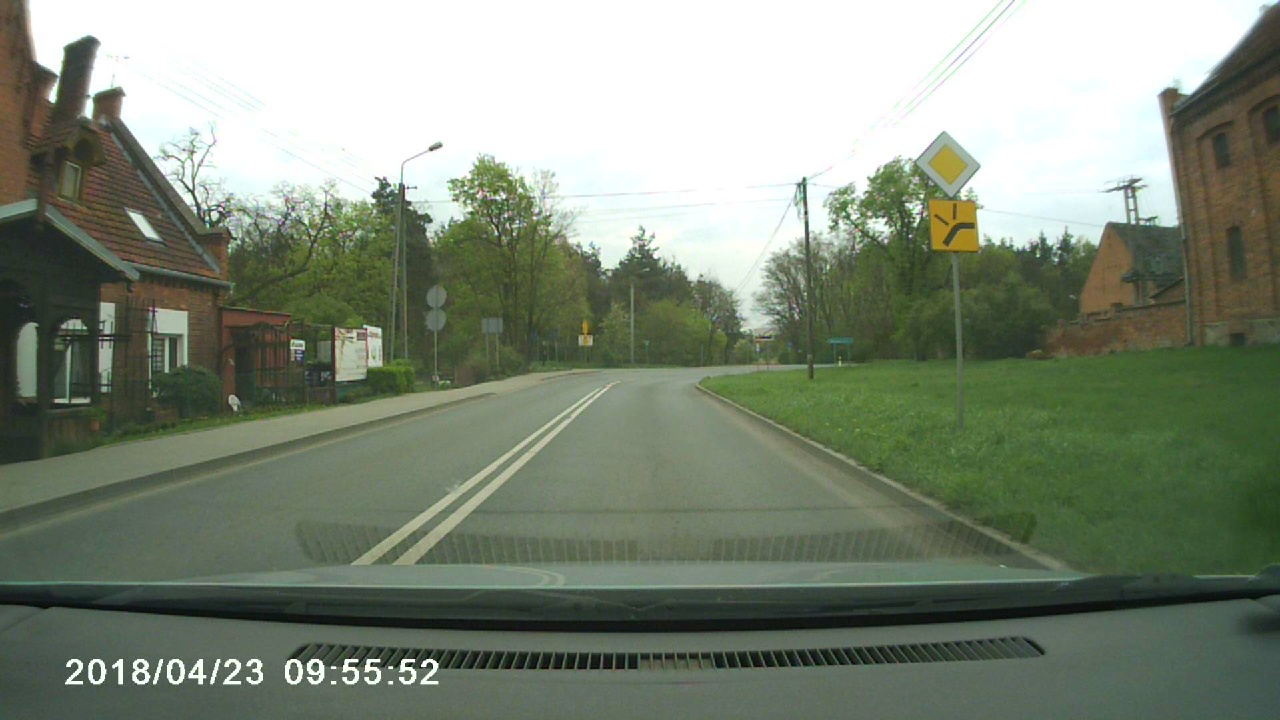D1: (915, 131, 981, 200)
